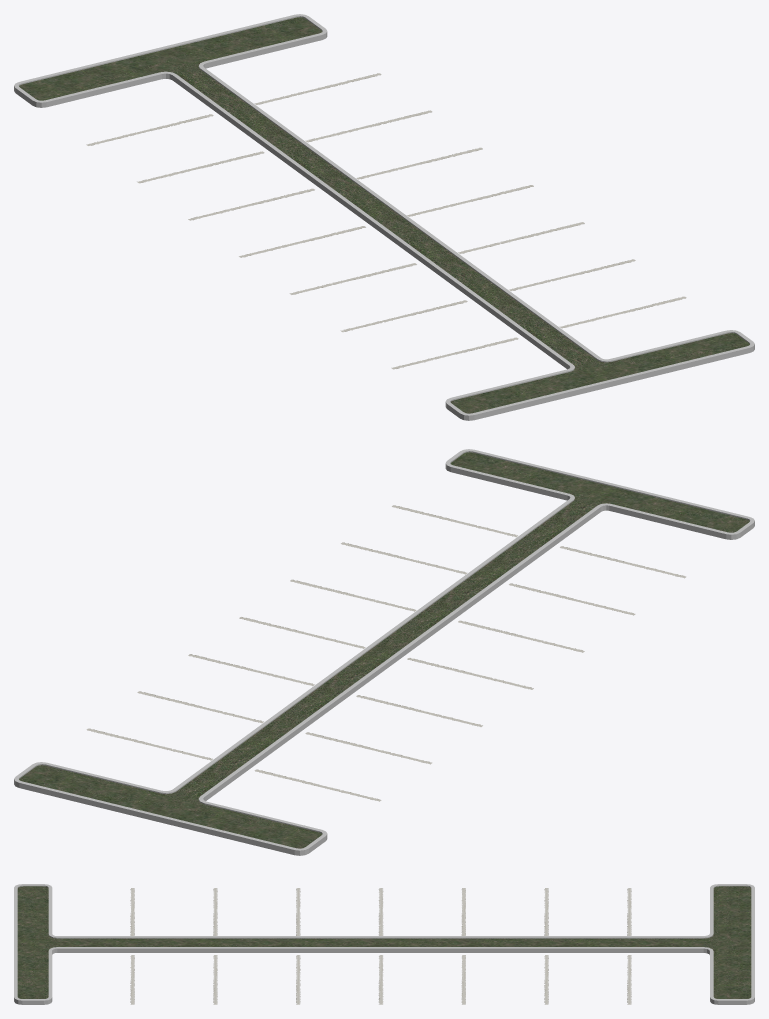
File: Park-06.fbx
The picture shows the model from 3 angles, top to bottom: view 1: azimuth 30°, elevation 25°; view 2: azimuth 150°, elevation 25°; view 3: azimuth 270°, elevation 25°; orthographic projection. The views are drawn at different scales.
Visible parts, largest first — view 1: Park-06; view 2: Park-06; view 3: Park-06.
Boxes of the visible parts, left/top/right/bottom form: Park-06: left=14, top=14, right=754, bottom=420; Park-06: left=14, top=449, right=754, bottom=855; Park-06: left=14, top=884, right=754, bottom=1004.
Size of what is drawn, in the model's own units: 11.67 by 0.2 by 31.33.
